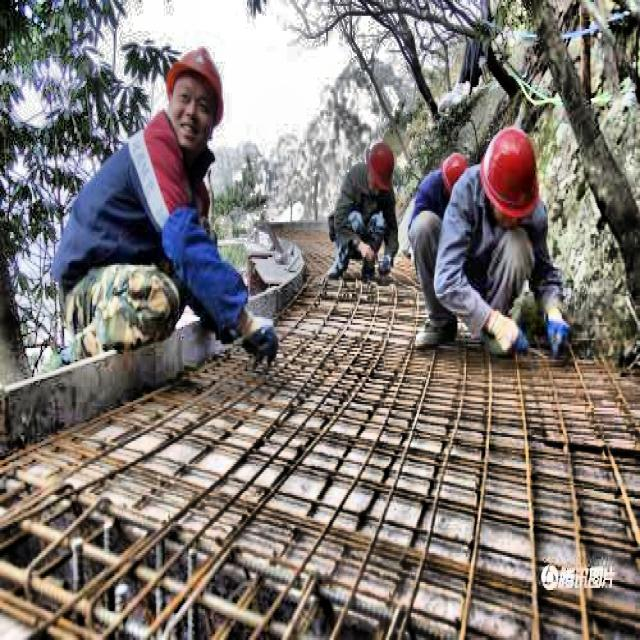helmet: (163, 39, 225, 152), (478, 120, 542, 226), (433, 149, 471, 205), (367, 141, 397, 192)
